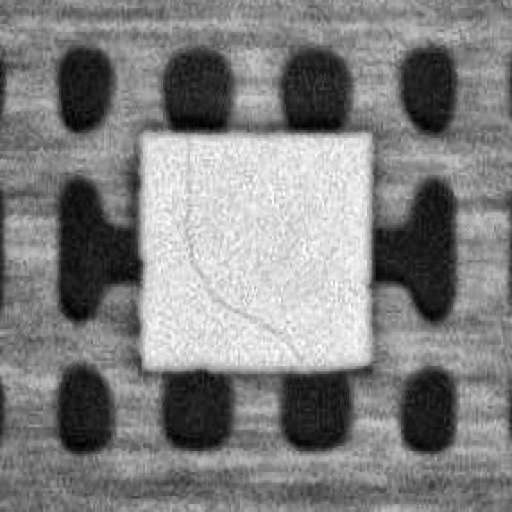DIE_CRACK: (181, 148, 299, 353)
